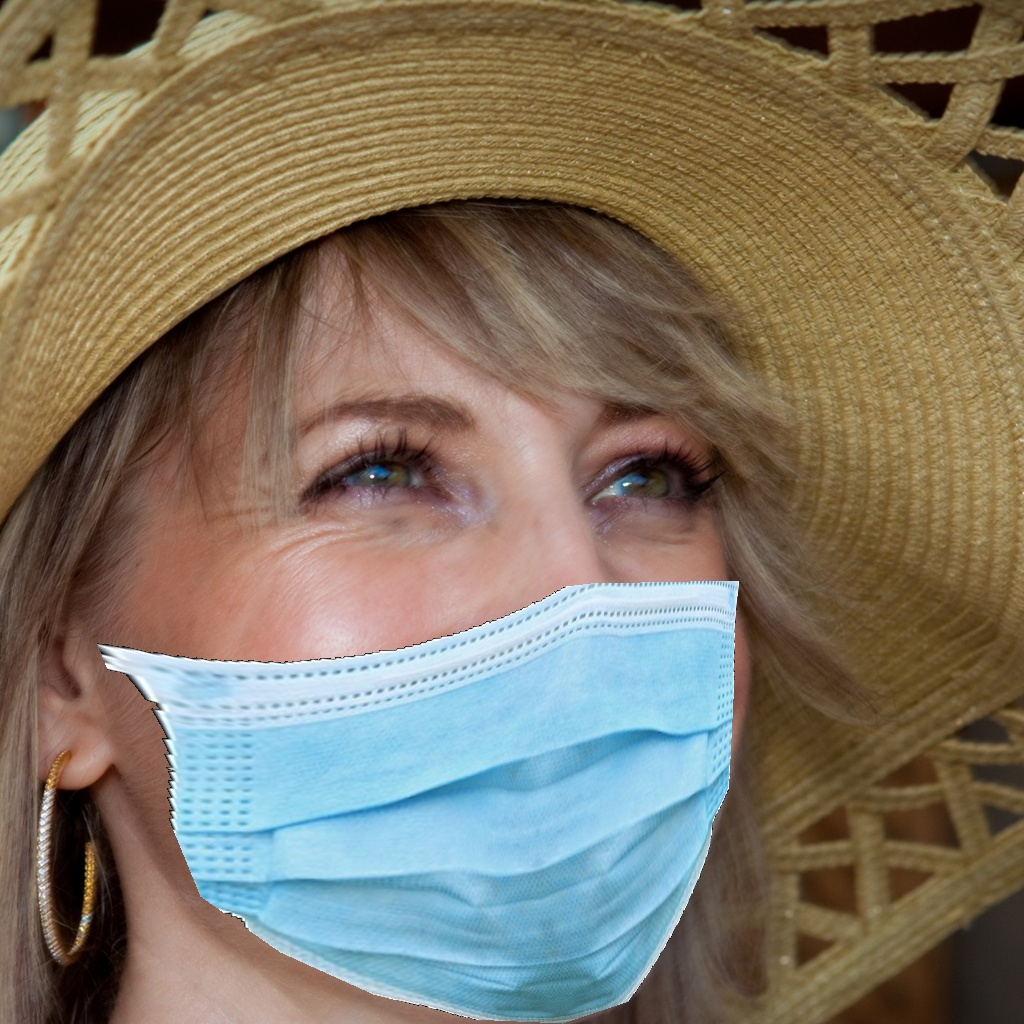Mask: (100, 378, 769, 1013)
